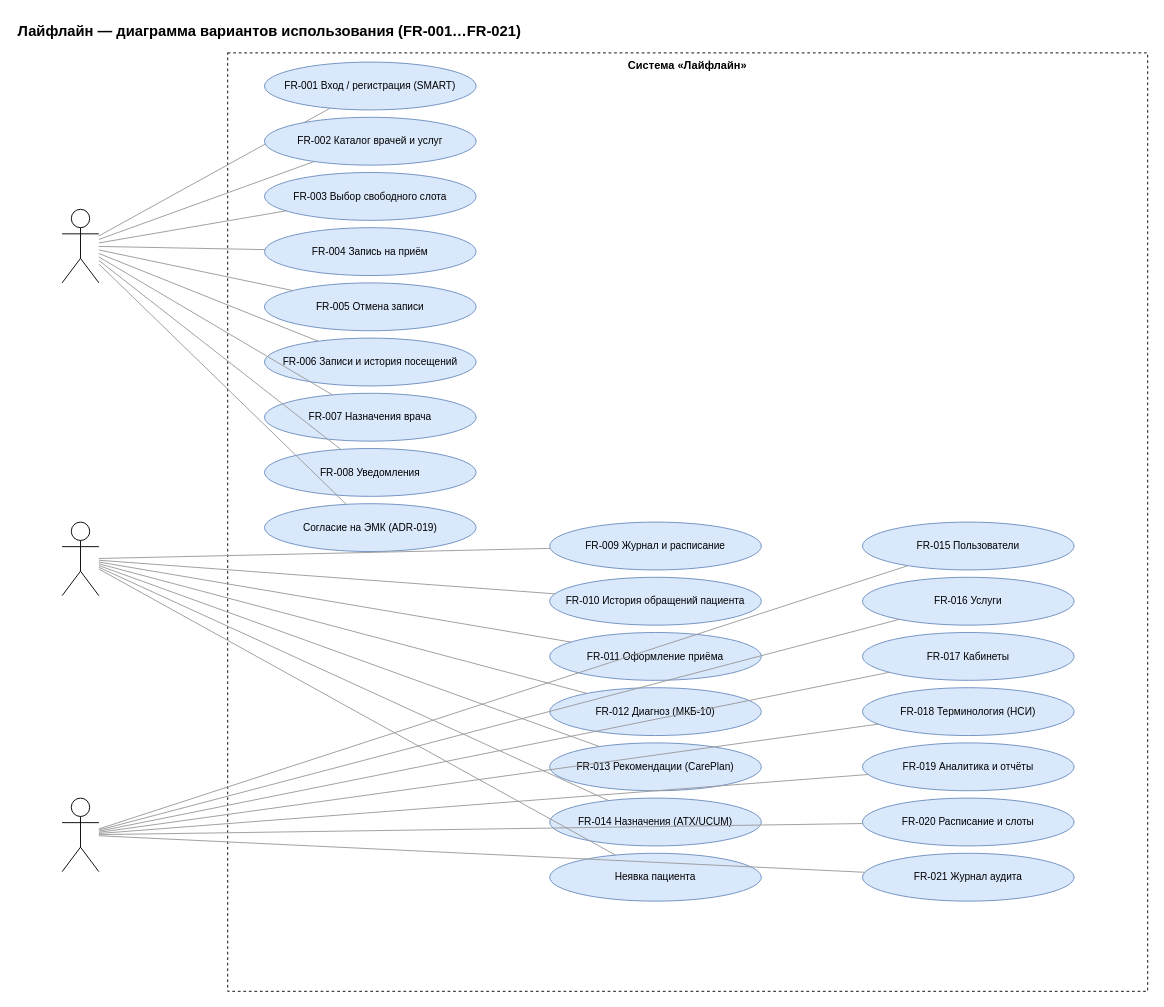
Some shapes in this 1164 by 1007 pixel diagram are drawn without their labels. Here are the shapes that lost their labels. From the top down, the centre of each, then its label:
At point (80, 245): "Пациент".
At point (80, 558): "Врач".
At point (80, 834): "Администратор".
